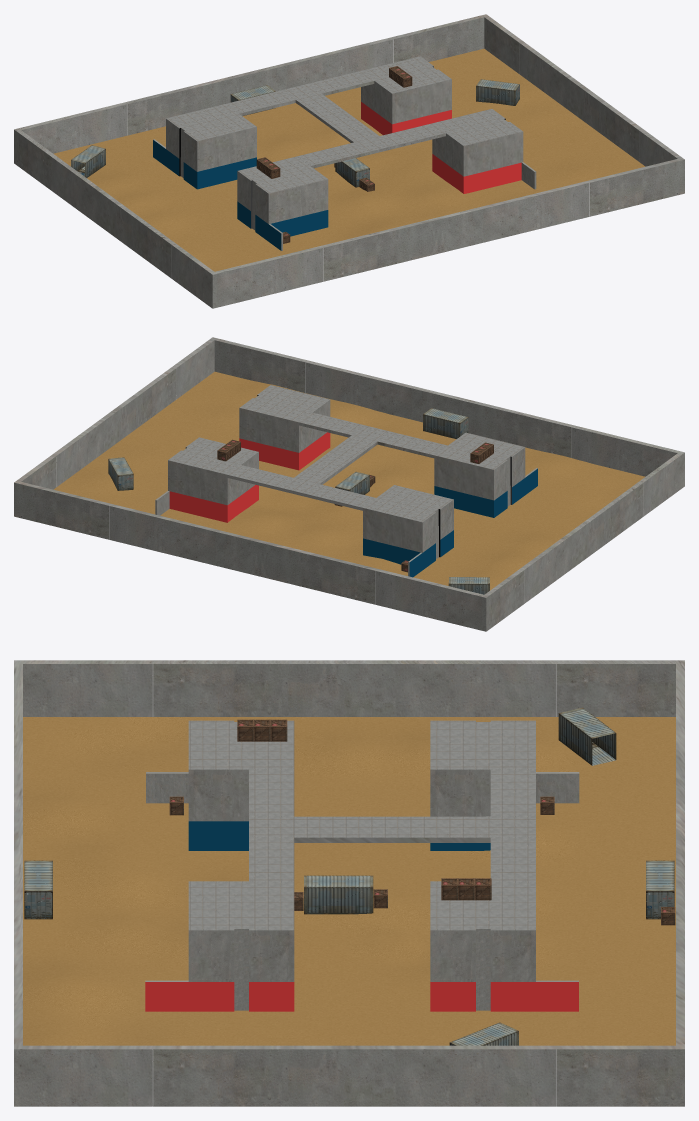
File: map.glb
The picture shows the model from 3 angles, top to bottom: view 1: azimuth 30°, elevation 25°; view 2: azimuth 150°, elevation 25°; view 3: azimuth 270°, elevation 25°; orthographic projection. The views are drawn at different scales.
Visible parts, largest first — view 1: Cube.005_2, Plane_1, Cube.001_0, Box001.003_6, Box001.004_7, Box001.001_4; view 2: Cube.005_2, Plane_1, Cube.001_0, Box001_3, Box001.003_6, Box001.004_7, Box001.001_4; view 3: Plane_1, Cube.005_2, Cube.001_0, Box001.001_4, Box001.004_7, Box001_3, Box001.002_5, Box001.003_6.
Part boxes in pixels (bbox=[...]): Cube.005_2: bbox=[14, 14, 684, 308]; Plane_1: bbox=[53, 48, 644, 271]; Cube.001_0: bbox=[153, 56, 536, 250]; Box001.003_6: bbox=[476, 79, 519, 105]; Box001.004_7: bbox=[71, 145, 105, 177]; Box001.001_4: bbox=[335, 158, 369, 187]; Cube.005_2: bbox=[14, 337, 684, 631]; Plane_1: bbox=[54, 371, 645, 590]; Cube.001_0: bbox=[155, 385, 537, 577]; Box001_3: bbox=[423, 408, 468, 438]; Box001.003_6: bbox=[108, 457, 133, 490]; Box001.004_7: bbox=[448, 577, 489, 594]; Box001.001_4: bbox=[335, 471, 369, 494]; Plane_1: bbox=[23, 717, 675, 1045]; Cube.005_2: bbox=[14, 660, 684, 1106]; Cube.001_0: bbox=[145, 720, 579, 1011]; Box001.001_4: bbox=[304, 875, 373, 914]; Box001.004_7: bbox=[558, 707, 616, 765]; Box001_3: bbox=[24, 860, 52, 919]; Box001.002_5: bbox=[646, 860, 674, 919]; Box001.003_6: bbox=[449, 1022, 518, 1045].
Size of the model in its own units: 29.11 by 3.52 by 21.21.
9 materials, 5 textured.
